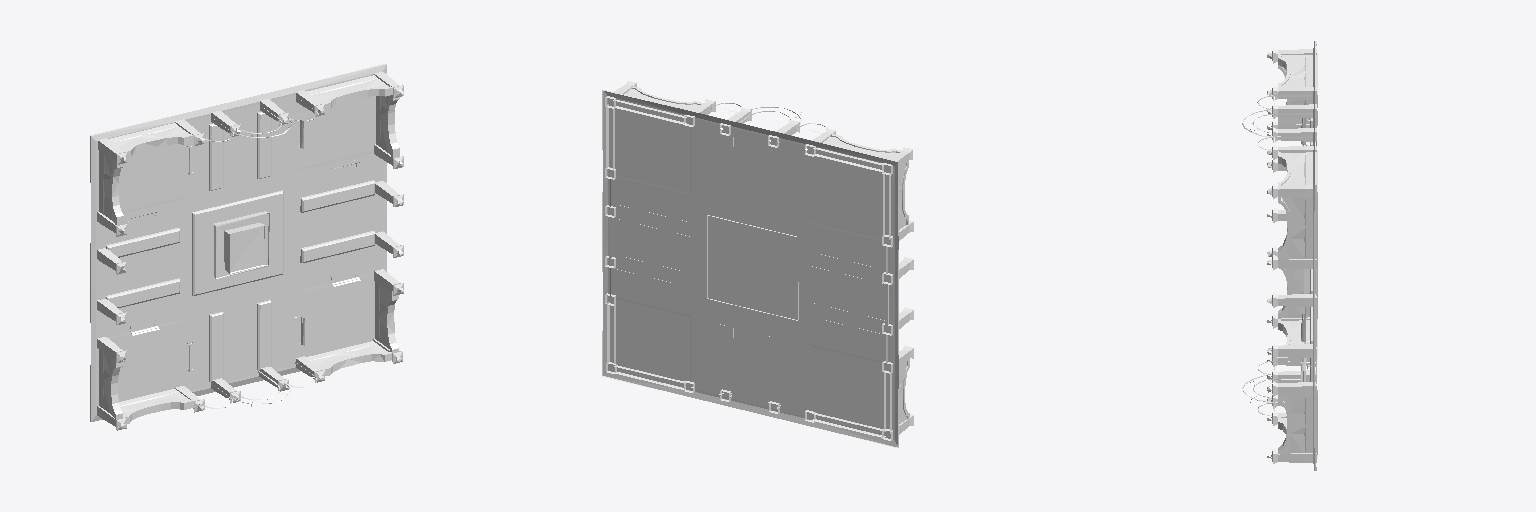
Rendered from garden1LOD.obj.
3 views of the same model, side by side, from view 1: azimuth 30°, elevation 25°; view 2: azimuth 150°, elevation 25°; view 3: azimuth 270°, elevation 25° (orthographic).
Parts seen in each view (by area): view 1: garden1.001_LOD1.001_LOD1.001_LOD1; view 2: garden1.001_LOD1.001_LOD1.001_LOD1; view 3: garden1.001_LOD1.001_LOD1.001_LOD1.
Boxes of the visible parts, <box> form: garden1.001_LOD1.001_LOD1.001_LOD1: <box>90,64,403,430</box>; garden1.001_LOD1.001_LOD1.001_LOD1: <box>602,81,913,447</box>; garden1.001_LOD1.001_LOD1.001_LOD1: <box>1242,41,1317,470</box>.
Size of the model in its own units: 23.61 by 21.84 by 5.23.